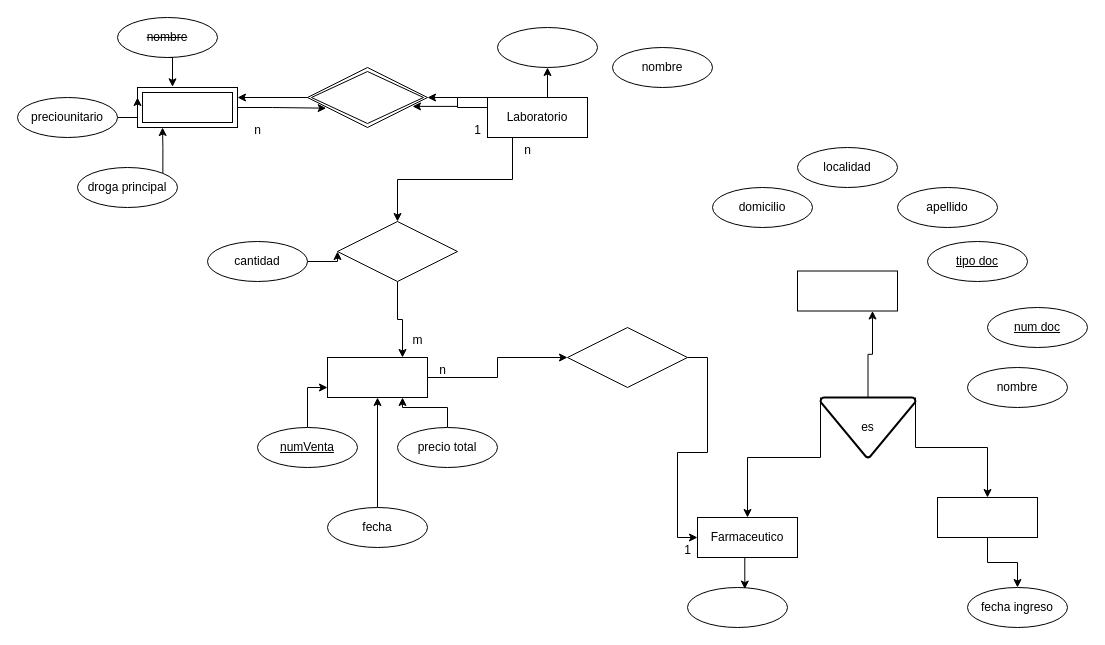
This 1105x645 diagram has some shape labels left out. The centre of each missing label's shape, as x and y in pixels:
codigo: point 547,47
Frabrica: point 367,97
matricula: point 737,607
Medicamento: point 187,107
Personal: point 847,290
Posee Detalle: point 397,251
Tecnico: point 987,517
vende: point 627,357
Venta: point 377,377
